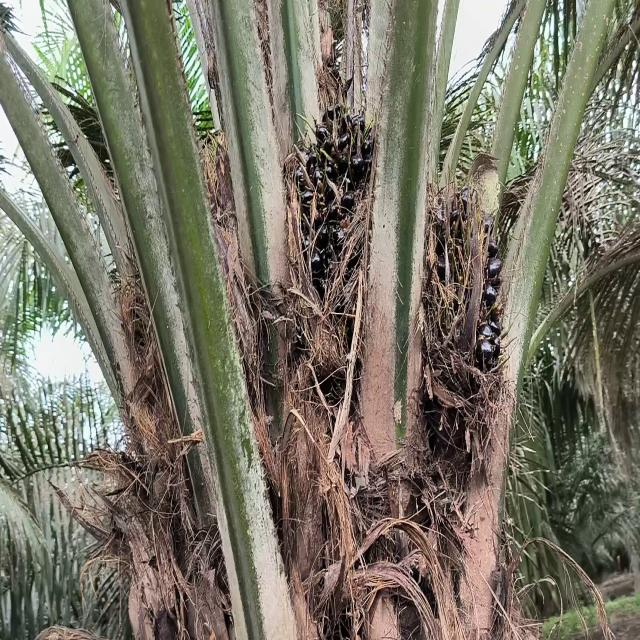palm-oil: (294, 98, 376, 315), (428, 175, 500, 404)
